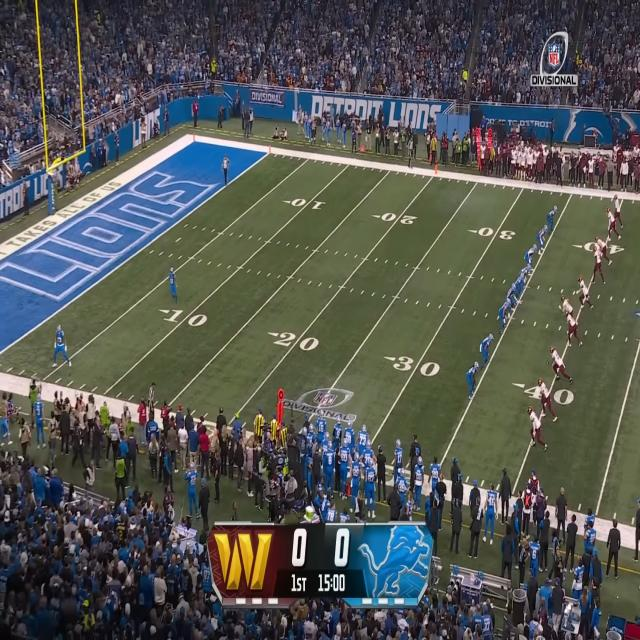Ball: (50, 355, 54, 362)
